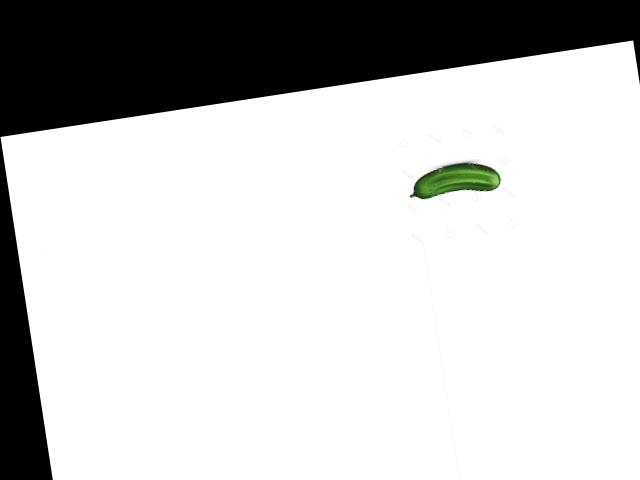cucumber: (406, 157, 502, 202)
